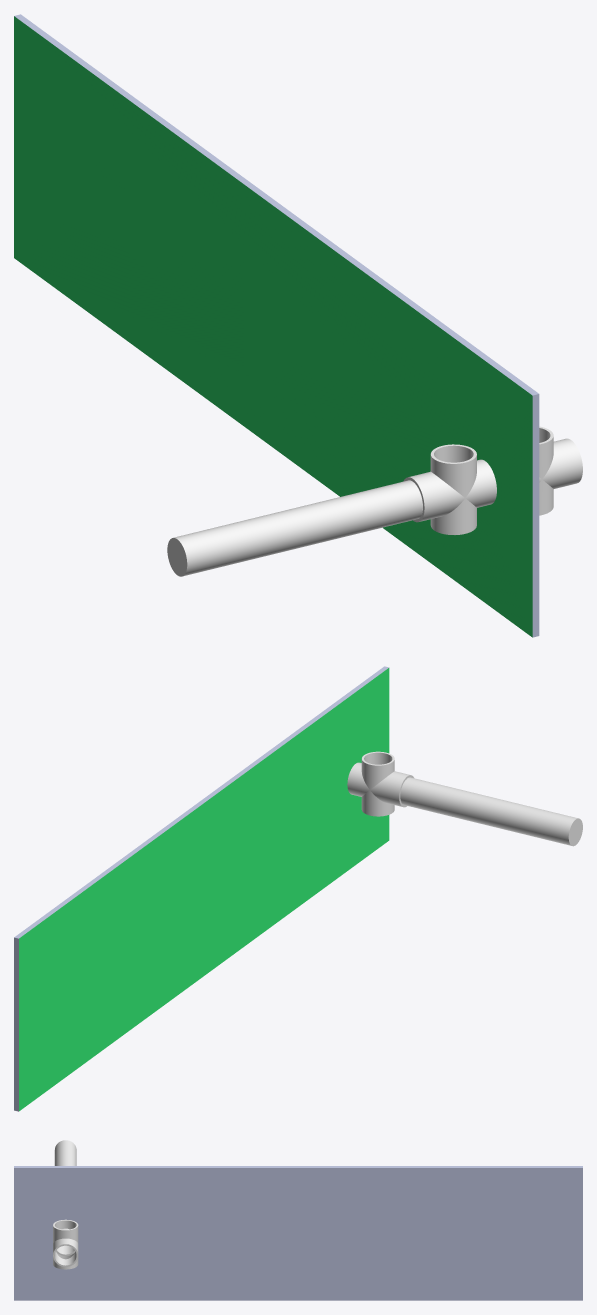
File: handle.obj
The picture shows the model from 3 angles, top to bottom: view 1: azimuth 30°, elevation 25°; view 2: azimuth 150°, elevation 25°; view 3: azimuth 270°, elevation 25°; orthographic projection. The views are drawn at different scales.
Parts seen in each view (by area): view 1: Bryła3, Bryła2, Bryła1; view 2: Bryła3, Bryła2, Bryła1; view 3: Bryła3, Bryła1, Bryła2.
Part boxes in pixels (box(x1,y1,x2,y2)): Bryła3: box(14, 14, 539, 637); Bryła2: box(167, 480, 422, 576); Bryła1: box(403, 426, 582, 534); Bryła3: box(14, 666, 389, 1111); Bryła2: box(400, 777, 582, 846); Bryła1: box(347, 751, 413, 816); Bryła3: box(14, 1166, 582, 1300); Bryła1: box(53, 1219, 78, 1269); Bryła2: box(54, 1140, 76, 1165).
Size of the model in its own units: 290 by 170 by 660.
